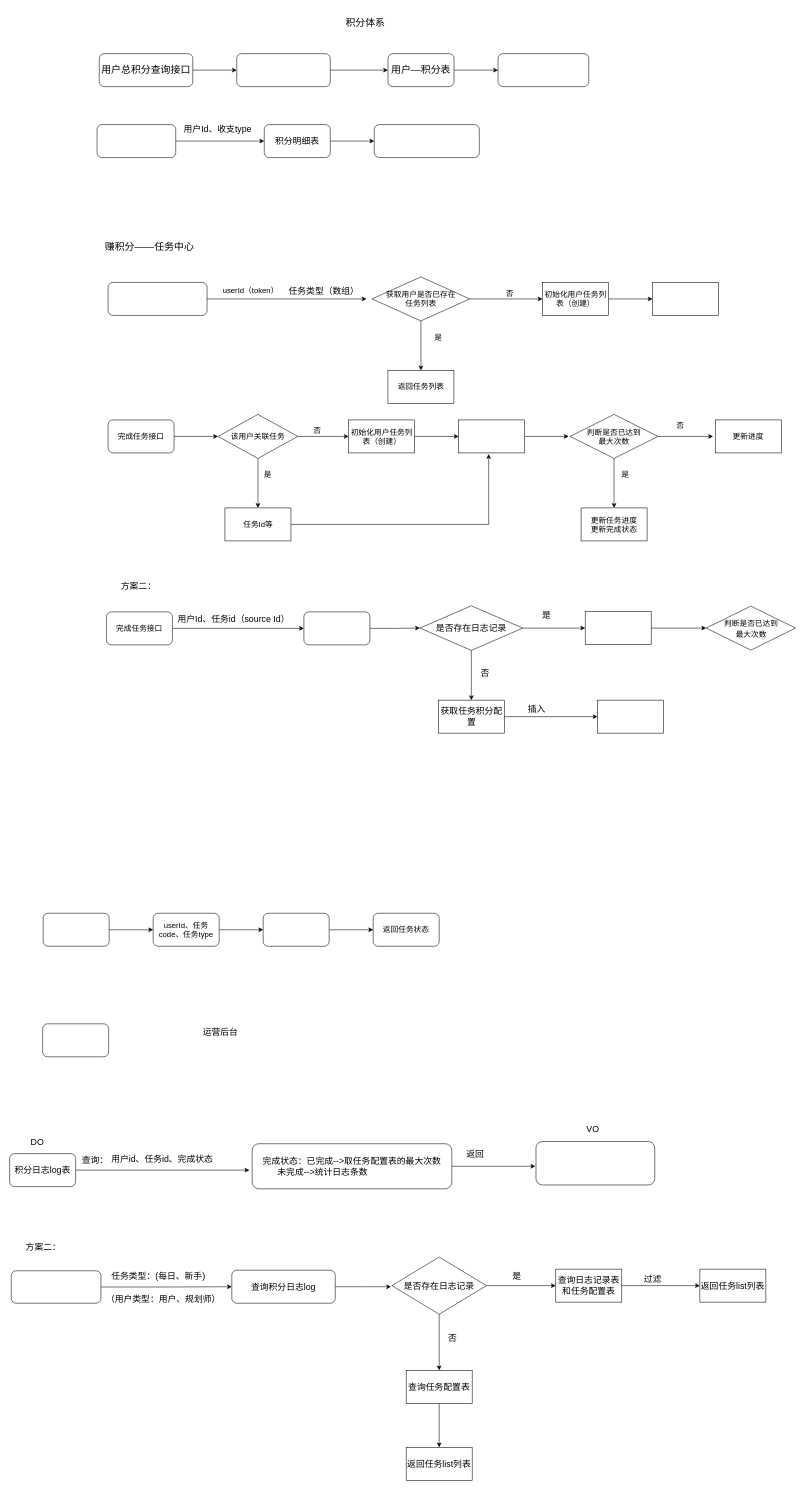
Some shapes in this 805 by 1490 pixel diagram are drawn without their labels. The shapes that lost their labels are listed below. From the top down, each one's centre as x and y in pixels, then its label:
At point 283,70: "用户id".
At point 543,70: "返回总积分结果".
At point 136,141: "积分明细列表接口".
At point 426,141: "分页返回排序结果".
At point 157,298: "用户任务列表接口".
At point 685,298: "获取初始化的用户任务列表".
At point 491,436: "用户增加积分".
At point 336,628: "查询积分日志表".
At point 618,628: "获取积分日志记录".
At point 630,716: "积分日志记录".
At point 76,929: "查询任务状态结果".
At point 296,929: "查询用户—任务表".
At point 595,1163: "用户当前完成该任务的次数".
At point 56,1286: "获取用户任务列表".
